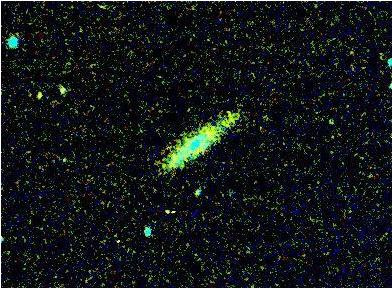star: (164, 197, 194, 227)
